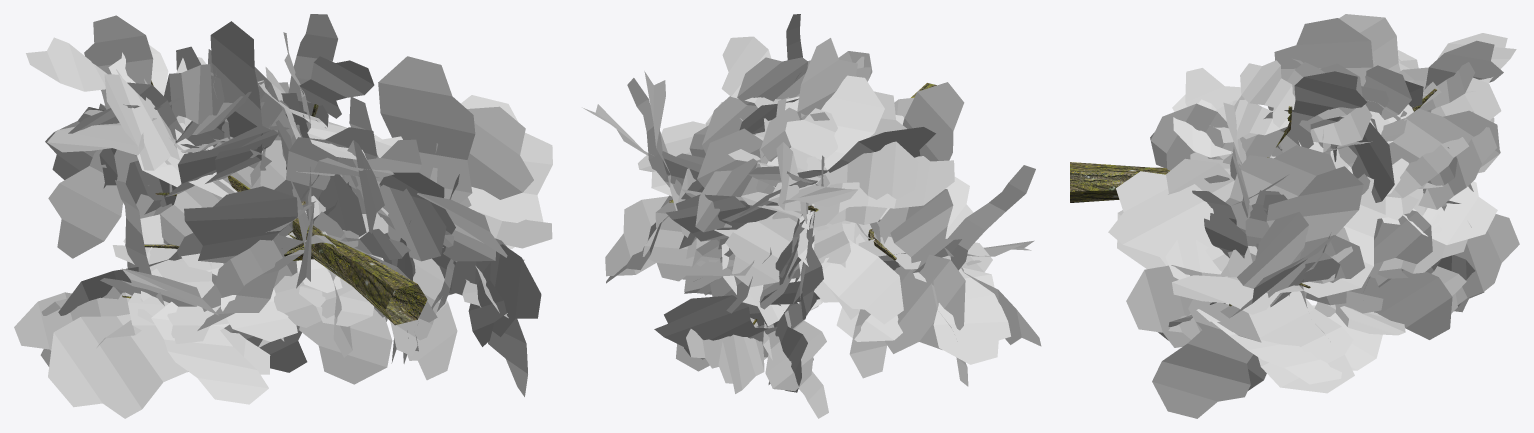
The model's file is TreeLobby.fbx.
3 renders of one model, left to right at view 1: azimuth 30°, elevation 25°; view 2: azimuth 150°, elevation 25°; view 3: azimuth 270°, elevation 25°, orthographic. The views are drawn at different scales.
Parts seen in each view (by area): view 1: Cube|Tree Branch|Dupli|36, Cube|Tree Branch|Dupli|65, Cube|Tree Branch|Dupli|27, Cube, Cube|Tree Branch|Dupli|100, Cube|Tree Branch|Dupli|32, Cube|Tree Branch|Dupli|71, Cube|Tree Branch|Dupli|150, Cube|Tree Branch|Dupli|23, Cube|Tree Branch|Dupli|55, Cube|Tree Branch|Dupli|83, Cube|Tree Branch|Dupli|47 (+57 smaller); view 2: Cube|Tree Branch|Dupli|26, Cube|Tree Branch|Dupli|37, Cube|Tree Branch|Dupli|100, Cube|Tree Branch|Dupli|162, Cube|Tree Branch|Dupli|111, Cube|Tree Branch|Dupli|155, Cube|Tree Branch|Dupli|105, Cube|Tree Branch|Dupli|104, Cube|Tree Branch|Dupli|31, Cube|Tree Branch|Dupli|27, Cube|Tree Branch|Dupli|150, Cube|Tree Branch|Dupli|35 (+46 smaller); view 3: Cube|Tree Branch|Dupli|77, Cube|Tree Branch|Dupli|79, Cube|Tree Branch|Dupli|84, Cube|Tree Branch|Dupli|65, Cube|Tree Branch|Dupli|47, Cube|Tree Branch|Dupli|60, Cube|Tree Branch|Dupli|150, Cube|Tree Branch|Dupli|127, Cube|Tree Branch|Dupli|186, Cube|Tree Branch|Dupli|13, Cube|Tree Branch|Dupli|71, Cube|Tree Branch|Dupli|183 (+43 smaller).
Boxes of the visible parts, <box> form: Cube|Tree Branch|Dupli|36: <box>48,268,187,418</box>; Cube|Tree Branch|Dupli|65: <box>378,56,475,203</box>; Cube|Tree Branch|Dupli|27: <box>184,186,297,263</box>; Cube: <box>122,80,427,325</box>; Cube|Tree Branch|Dupli|100: <box>48,149,138,258</box>; Cube|Tree Branch|Dupli|32: <box>151,301,268,404</box>; Cube|Tree Branch|Dupli|71: <box>430,106,533,207</box>; Cube|Tree Branch|Dupli|150: <box>204,21,262,173</box>; Cube|Tree Branch|Dupli|23: <box>112,245,229,343</box>; Cube|Tree Branch|Dupli|55: <box>299,308,392,384</box>; Cube|Tree Branch|Dupli|83: <box>461,95,552,248</box>; Cube|Tree Branch|Dupli|47: <box>444,244,541,336</box>; Cube|Tree Branch|Dupli|26: <box>872,207,965,353</box>; Cube|Tree Branch|Dupli|37: <box>913,267,1010,364</box>; Cube|Tree Branch|Dupli|100: <box>798,210,903,324</box>; Cube|Tree Branch|Dupli|162: <box>806,141,918,224</box>; Cube|Tree Branch|Dupli|111: <box>654,295,777,359</box>; Cube|Tree Branch|Dupli|155: <box>767,75,884,169</box>; Cube|Tree Branch|Dupli|105: <box>725,212,800,287</box>; Cube|Tree Branch|Dupli|104: <box>809,156,954,228</box>; Cube|Tree Branch|Dupli|31: <box>890,189,961,273</box>; Cube|Tree Branch|Dupli|27: <box>903,82,964,209</box>; Cube|Tree Branch|Dupli|150: <box>797,38,857,120</box>; Cube|Tree Branch|Dupli|35: <box>947,165,1035,270</box>; Cube|Tree Branch|Dupli|77: <box>1152,299,1261,418</box>; Cube|Tree Branch|Dupli|79: <box>1108,171,1257,271</box>; Cube|Tree Branch|Dupli|84: <box>1196,291,1354,393</box>; Cube|Tree Branch|Dupli|65: <box>1266,166,1363,282</box>; Cube|Tree Branch|Dupli|47: <box>1126,246,1252,347</box>; Cube|Tree Branch|Dupli|60: <box>1225,145,1335,233</box>; Cube|Tree Branch|Dupli|150: <box>1274,18,1373,86</box>; Cube|Tree Branch|Dupli|127: <box>1374,269,1452,339</box>; Cube|Tree Branch|Dupli|186: <box>1151,103,1284,170</box>; Cube|Tree Branch|Dupli|13: <box>1388,108,1499,167</box>; Cube|Tree Branch|Dupli|71: <box>1237,212,1308,307</box>; Cube|Tree Branch|Dupli|183: <box>1264,71,1366,129</box>.
Bounding box in the file's own units: 1227 × 876 × 1112.
2 materials, 1 textured.
